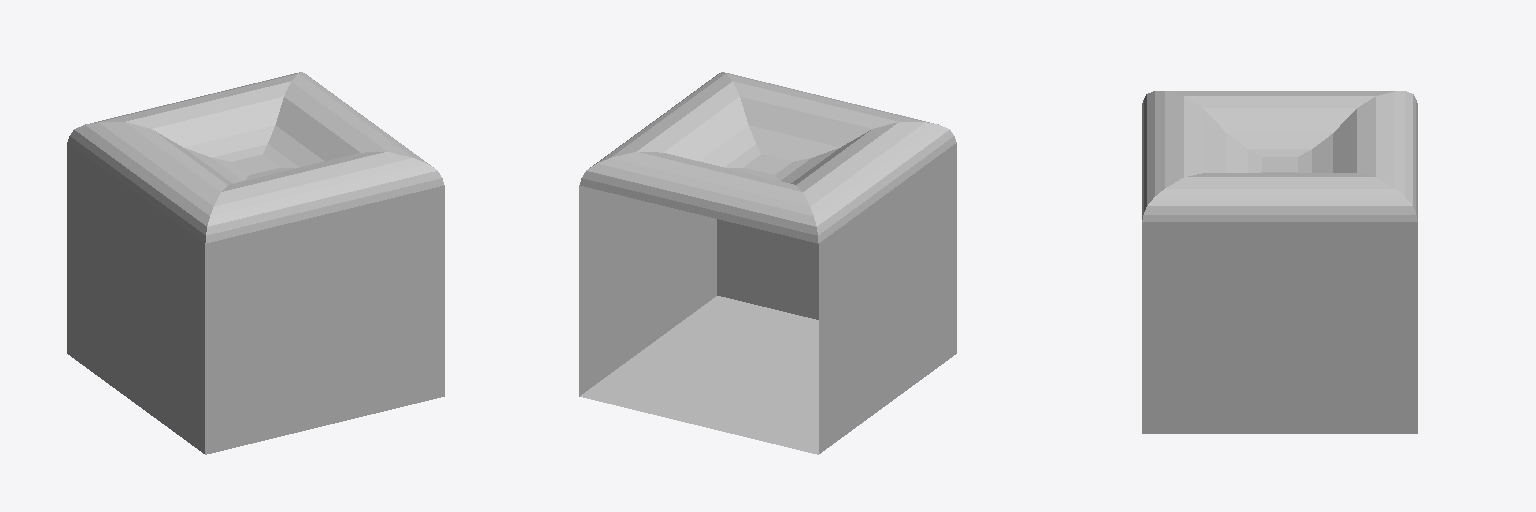
Rendered from psmooth.obj.
3 renders of one model, left to right at view 1: azimuth 30°, elevation 25°; view 2: azimuth 150°, elevation 25°; view 3: azimuth 270°, elevation 25°, orthographic.
Bounding box in the file's own units: 2 × 1.91 × 2.